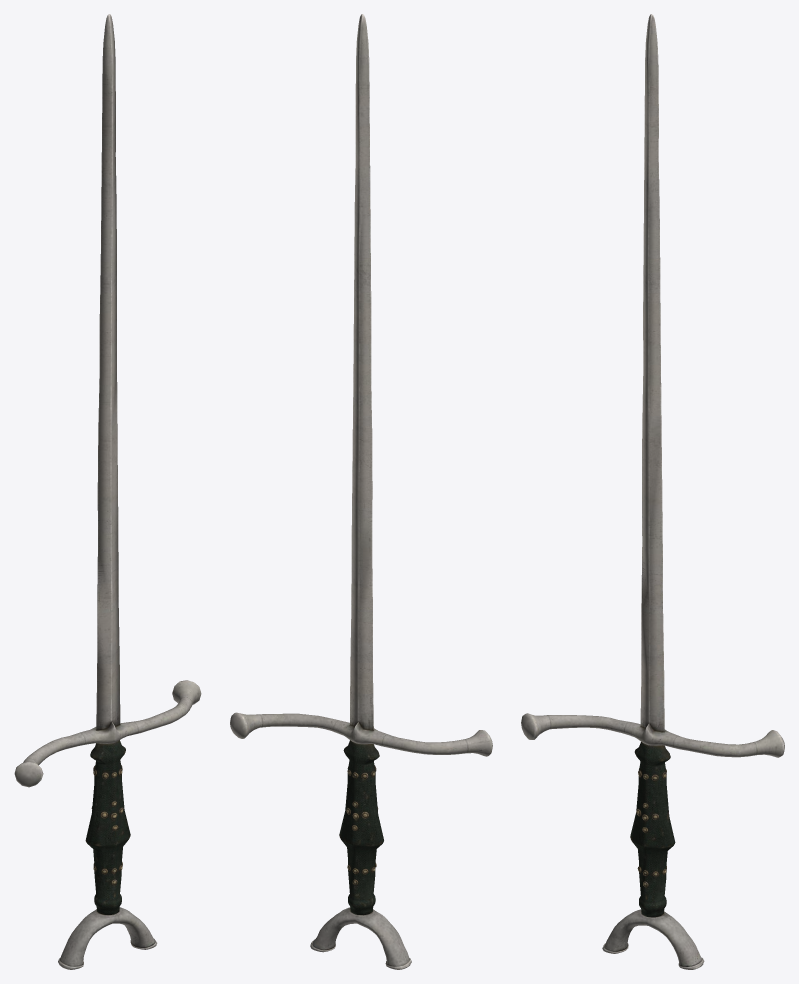
The model's file is sword-estoc.7eb6b3fe.glb.
3 renders of one model, left to right at view 1: azimuth 30°, elevation 25°; view 2: azimuth 150°, elevation 25°; view 3: azimuth 330°, elevation 25°, orthographic.
Parts seen in each view (by area): view 1: model; view 2: model; view 3: model.
Part boxes in pixels (bbox=[...]): model: bbox=[14, 14, 201, 969]; model: bbox=[230, 14, 492, 969]; model: bbox=[521, 14, 784, 969].
Size of the model in its own units: 0.3715 by 1.49 by 0.1491.
Materials: 1 (1 with a texture image).
